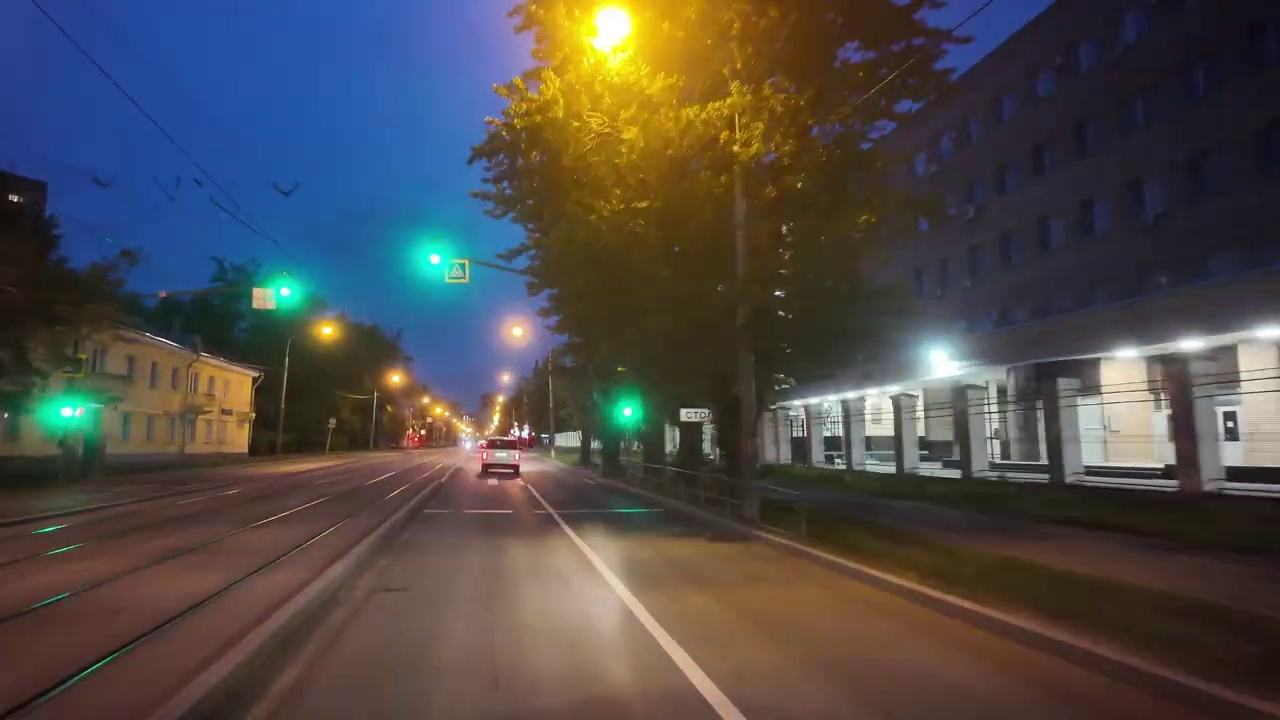acesa: (560, 2, 652, 76), (310, 318, 345, 348), (928, 347, 958, 378), (500, 316, 532, 345), (381, 366, 410, 393)
